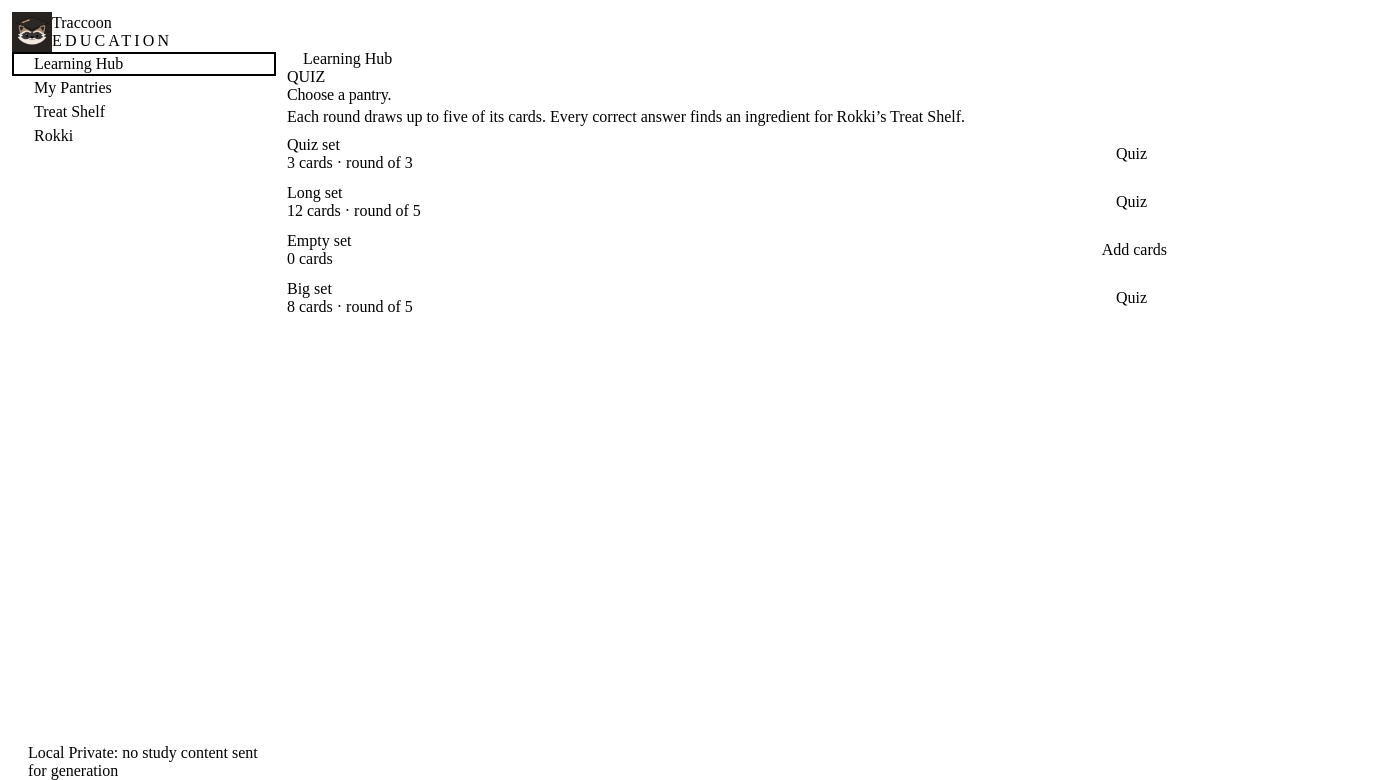
Test: Learning Hub quiz › starts a Quiz round from the picker
Click the link with aria-label "Quiz Quiz set" at coordinates (1131, 154), box [1116,145,1147,162]
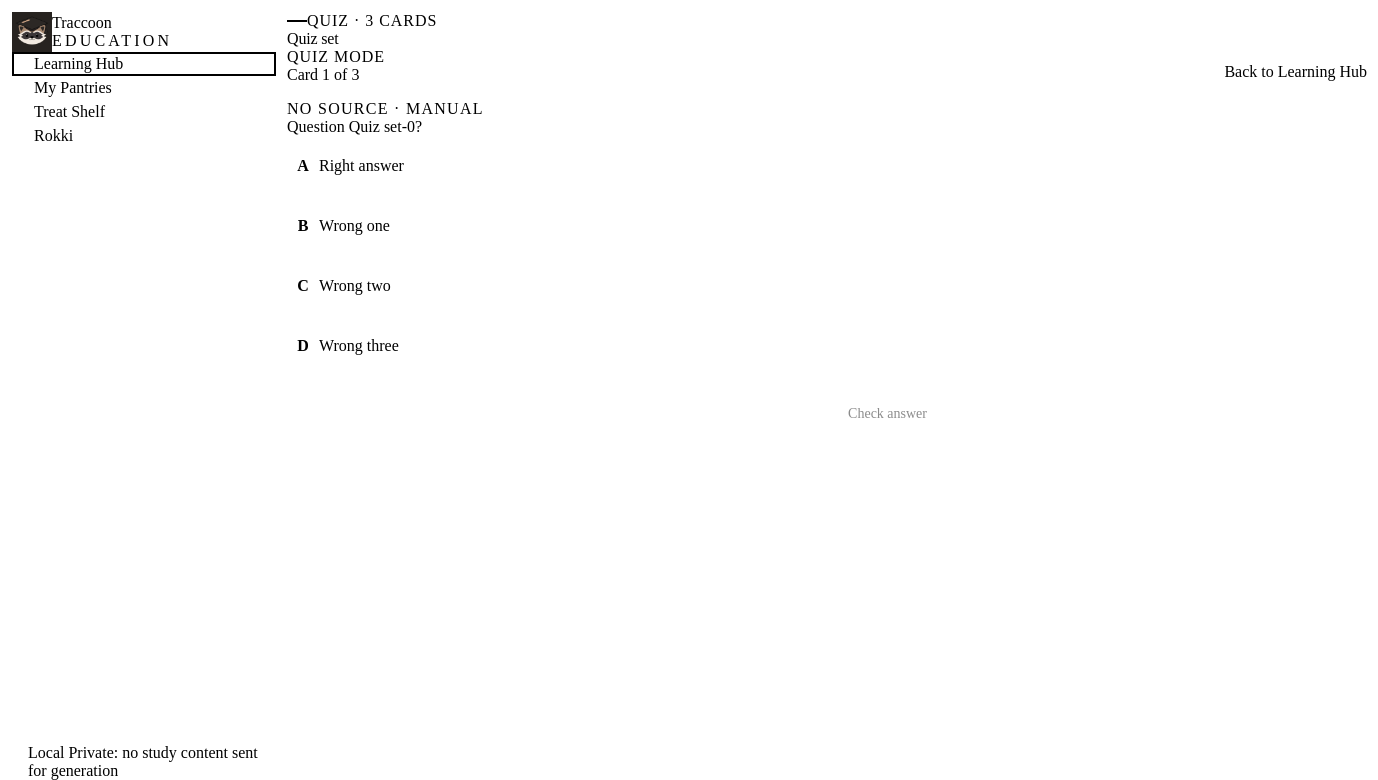
Expected: the text "QUIZ · 3 CARDS" is shown, [287,12,437,29]
